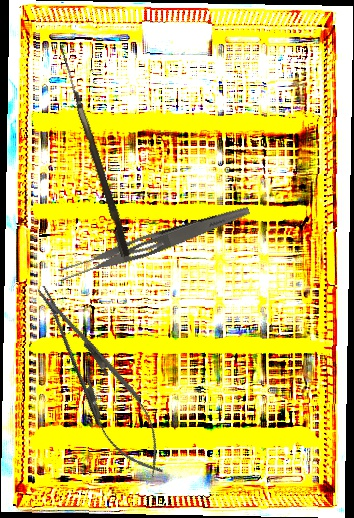Dressing Forceps: (56, 197, 252, 287)
Hook Surgical: (50, 45, 134, 258)
Needle Holder: (18, 271, 181, 489)
